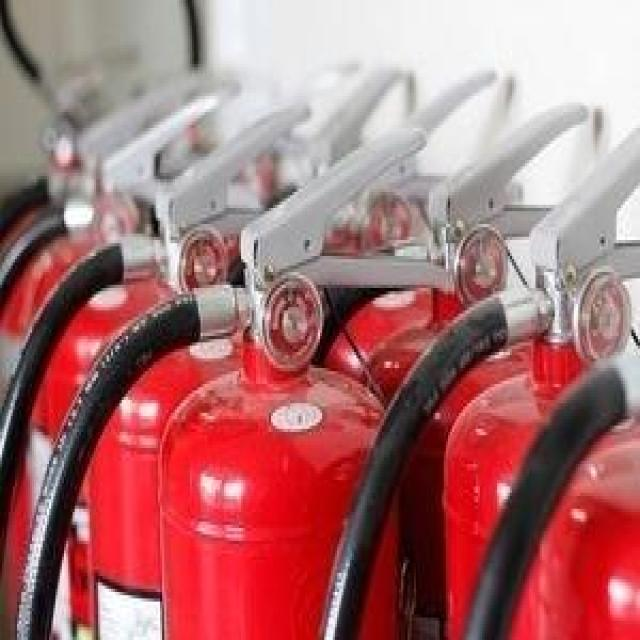fire_extinguisher: (8, 118, 461, 637), (284, 96, 625, 637), (0, 89, 329, 636), (311, 106, 638, 636)
